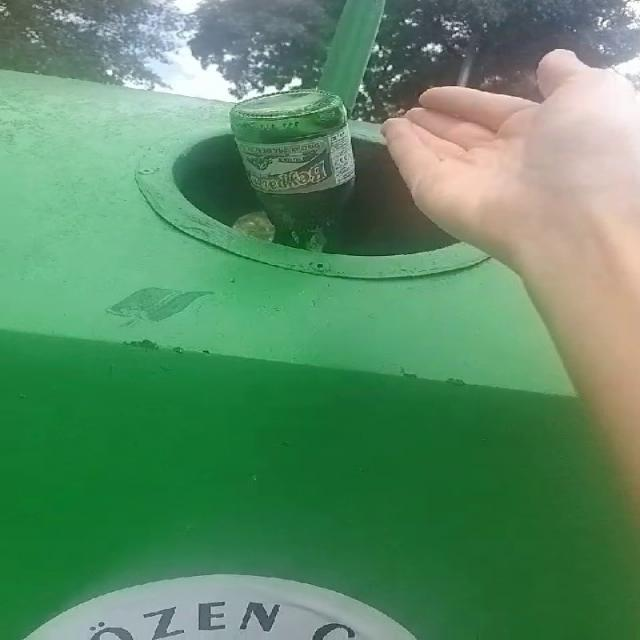glass: (229, 89, 355, 250)
